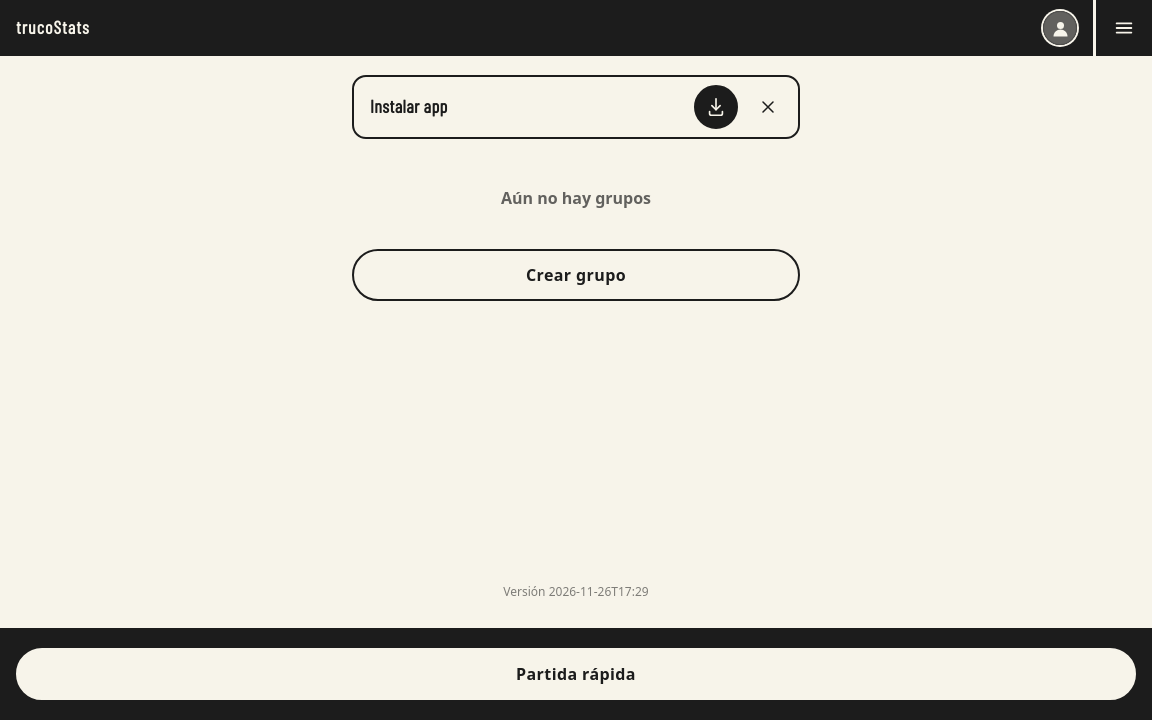
Test case: menú de la pantalla principal (cuenta) › con sesión el menú empieza con el usuario (que abre el perfil), y sigue con crear grupo y cerrar sesión
The width and height of the screenshot is (1152, 720).
Click the button named "Menú".
click(1124, 28)  # box [1096,0,1151,56]
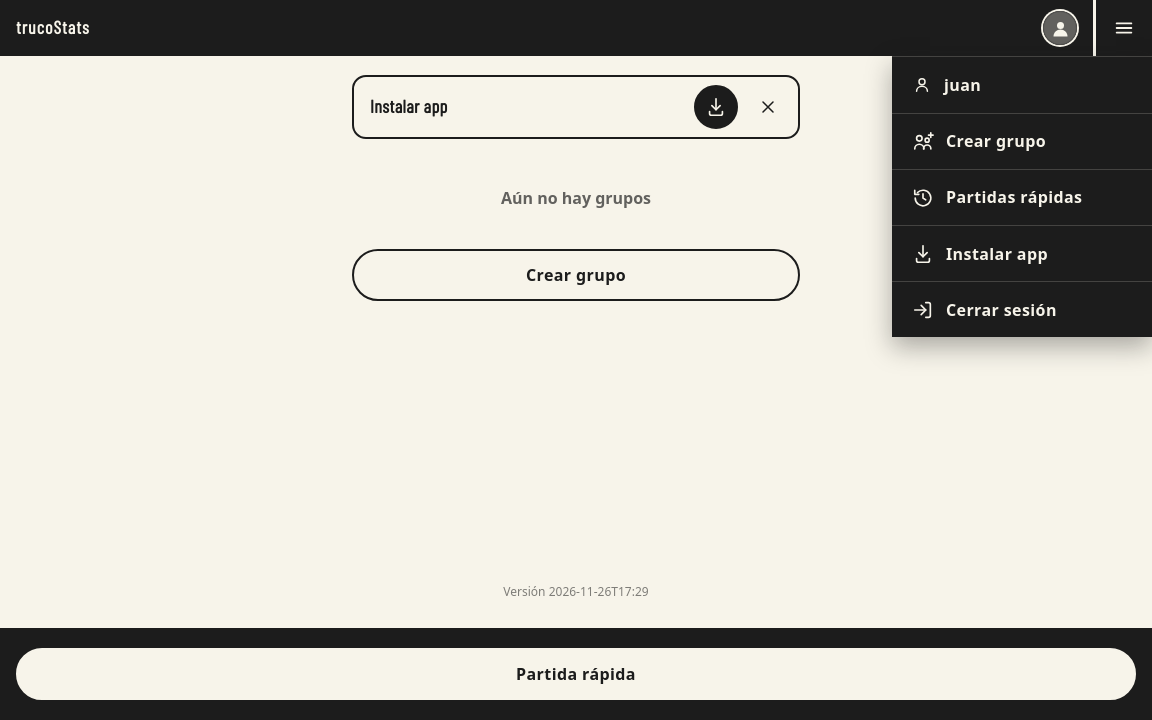
expect the links read "juan", "Crear grupo", "Partidas rápidas", in this order: met, box [912,74,981,96]; [892,113,1151,169]; [892,169,1151,225]
expect the button "Cerrar sesión" is shown: met, box [892,281,1151,337]
